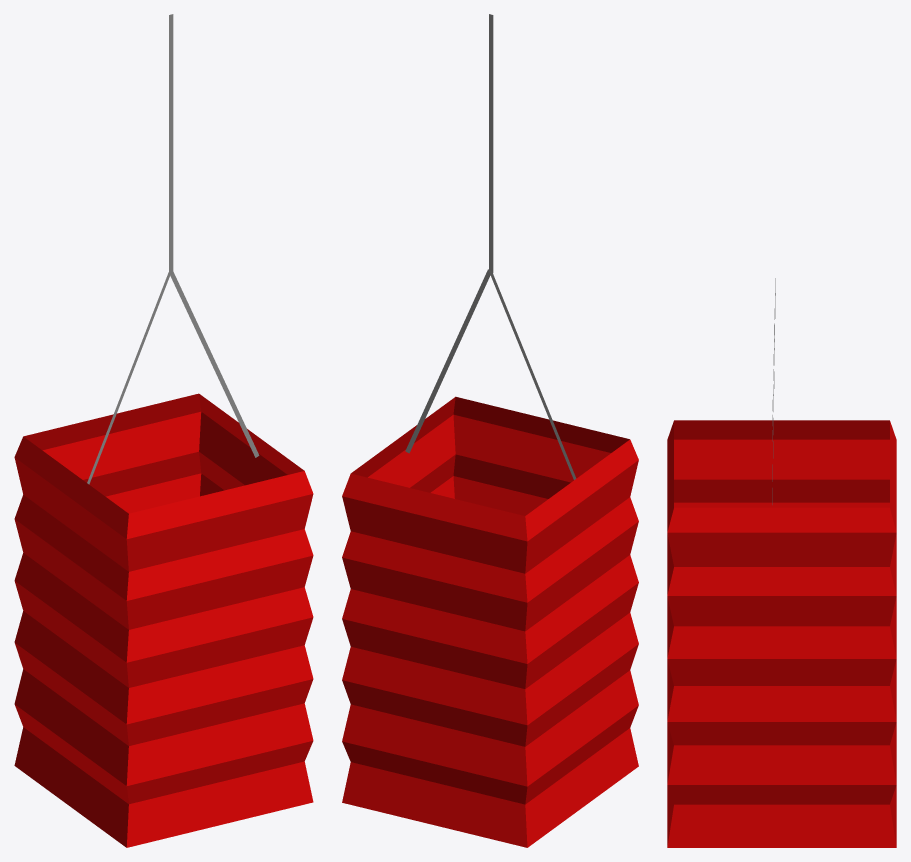
Rendered from Paperlight_01.glb.
The picture shows the model from 3 angles, left to right: view 1: azimuth 30°, elevation 25°; view 2: azimuth 150°, elevation 25°; view 3: azimuth 270°, elevation 25°; orthographic projection. The views are drawn at different scales.
Parts seen in each view (by area): view 1: paperlight_01_geo; view 2: paperlight_01_geo; view 3: paperlight_01_geo.
Part boxes in pixels (x1,y1,x2,y2): paperlight_01_geo: (14, 14, 313, 847); paperlight_01_geo: (342, 14, 638, 847); paperlight_01_geo: (667, 278, 896, 847).
Size of what is drawn, in the model's own units: 0.3583 by 1.41 by 0.373.
1 material, 1 textured.
